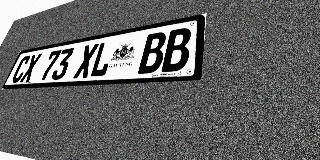3: (50, 47, 75, 80)
7: (38, 50, 62, 81)
B: (161, 27, 192, 72), (138, 31, 167, 74)
C: (10, 55, 32, 83)
L: (89, 40, 116, 77)
X: (73, 43, 99, 79), (19, 53, 42, 82)
